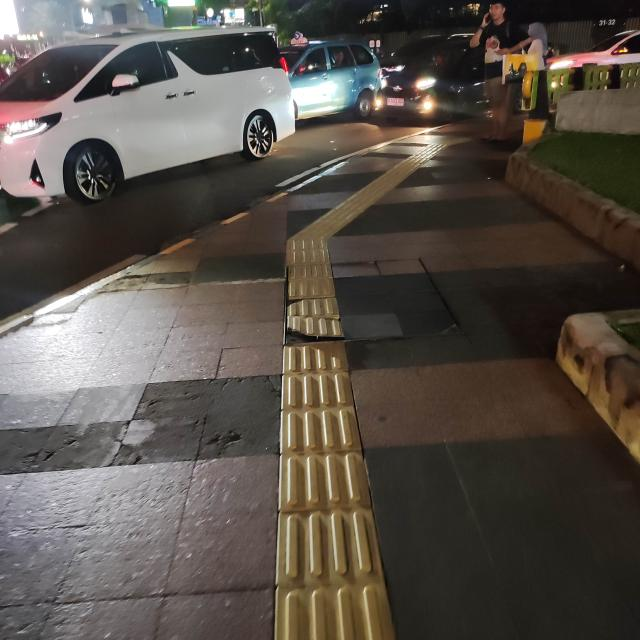lurus: (265, 243, 392, 640)
